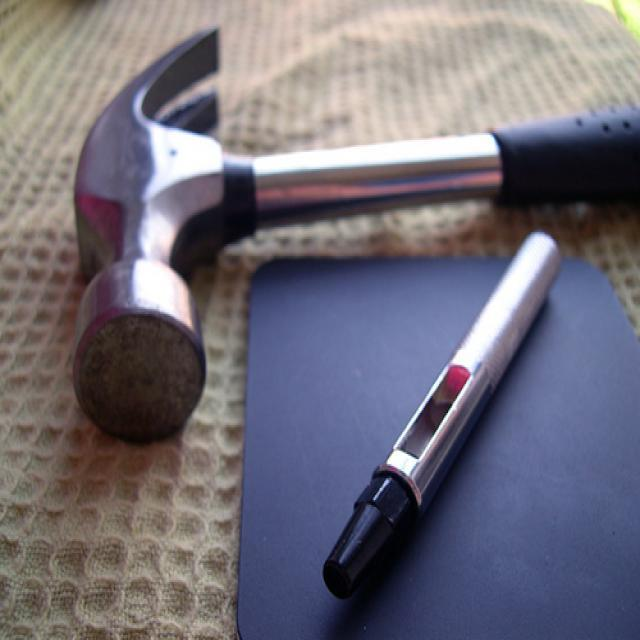hammer: (53, 12, 640, 454)
